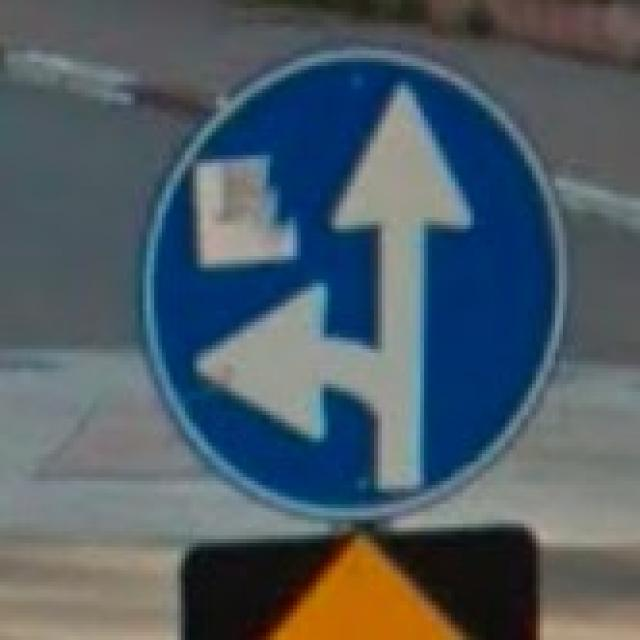Straight or Left: (146, 49, 570, 519)
